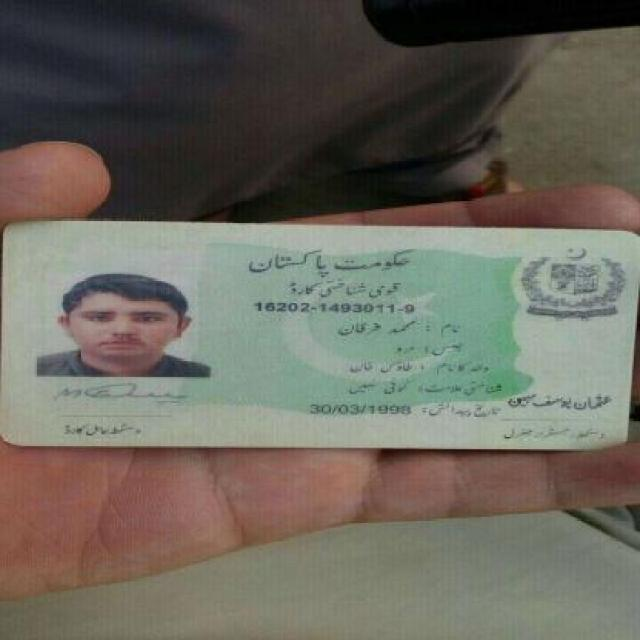Front: (6, 211, 625, 454)
